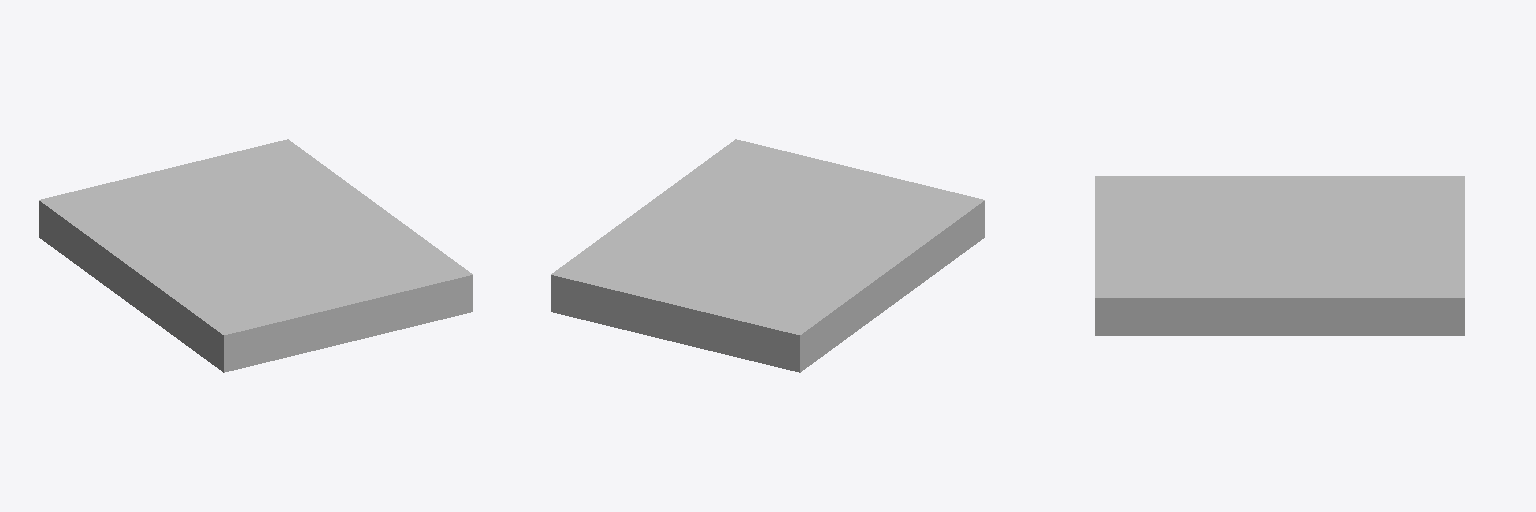
File: play Button.obj
3 renders of one model, left to right at view 1: azimuth 30°, elevation 25°; view 2: azimuth 150°, elevation 25°; view 3: azimuth 270°, elevation 25°, orthographic.
Visible parts, largest first — view 1: object 1; view 2: object 1; view 3: object 1.
Part boxes in pixels (x1,y1,x2,y2): object 1: (39,139,472,372); object 1: (551,139,984,372); object 1: (1095,176,1464,335).
Size of the model in its own units: 0.7 by 0.1 by 0.9.